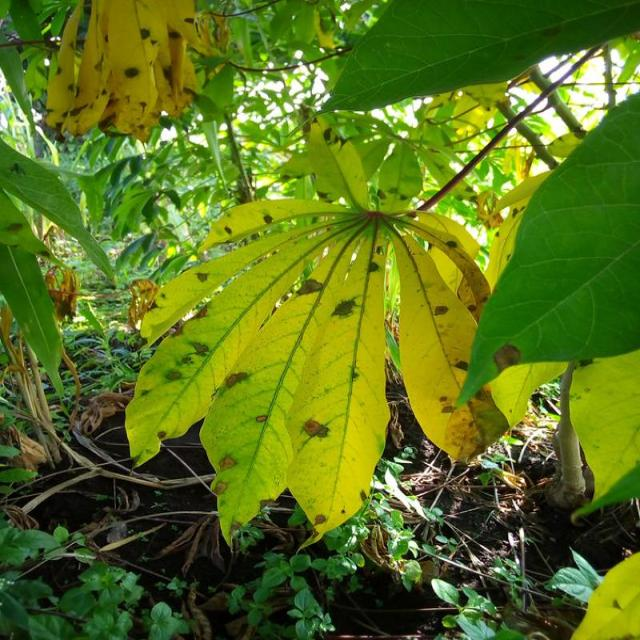cassava leaf: (124, 114, 512, 549), (452, 90, 638, 426), (318, 0, 638, 115)
